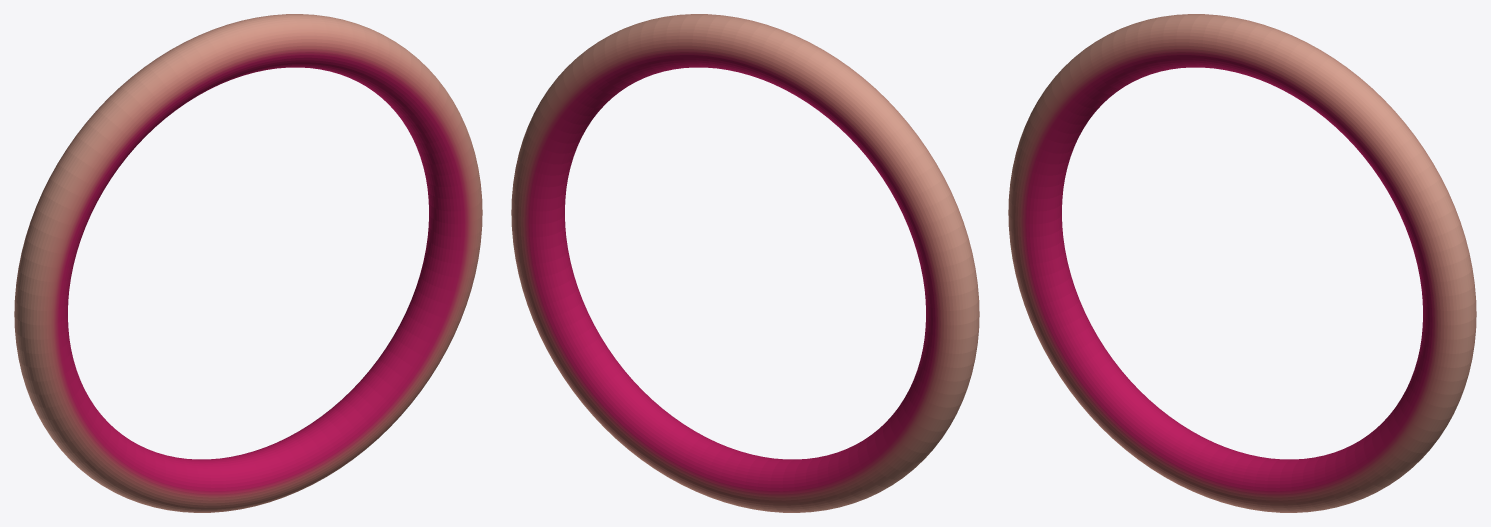
3 views of the same model, side by side, from view 1: azimuth 30°, elevation 25°; view 2: azimuth 150°, elevation 25°; view 3: azimuth 330°, elevation 25° (orthographic).
Visible parts, largest first — view 1: world; view 2: world; view 3: world.
Part boxes in pixels (x1,y1,x2,y2): world: (14,14,482,512); world: (511,14,979,512); world: (1008,14,1476,512).
Bounding box in the file's own units: 25.2 × 25.2 × 2.53.
